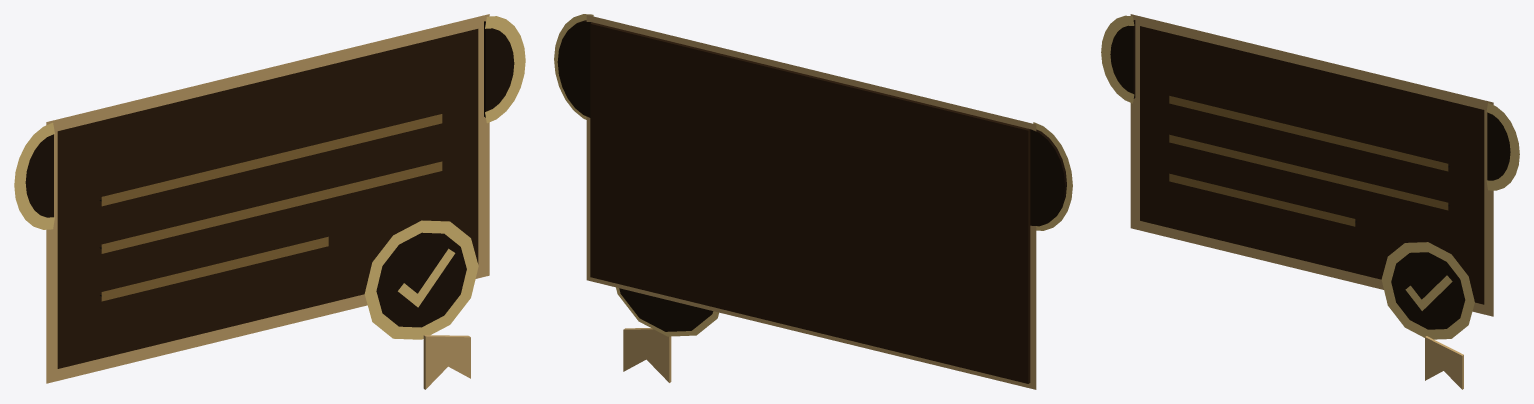
File: obj-gramota.glb
3 views of the same model, side by side, from view 1: azimuth 30°, elevation 25°; view 2: azimuth 150°, elevation 25°; view 3: azimuth 330°, elevation 25° (orthographic). The views are drawn at different scales.
Parts seen in each view (by area): view 1: obj-gramota; view 2: obj-gramota; view 3: obj-gramota.
Part boxes in pixels (box(x1,y1,x2,y2)): obj-gramota: box(14, 14, 525, 389); obj-gramota: box(554, 14, 1072, 389); obj-gramota: box(1101, 14, 1519, 389).
Size of the model in its own units: 0.45 by 0.295 by 0.018.
